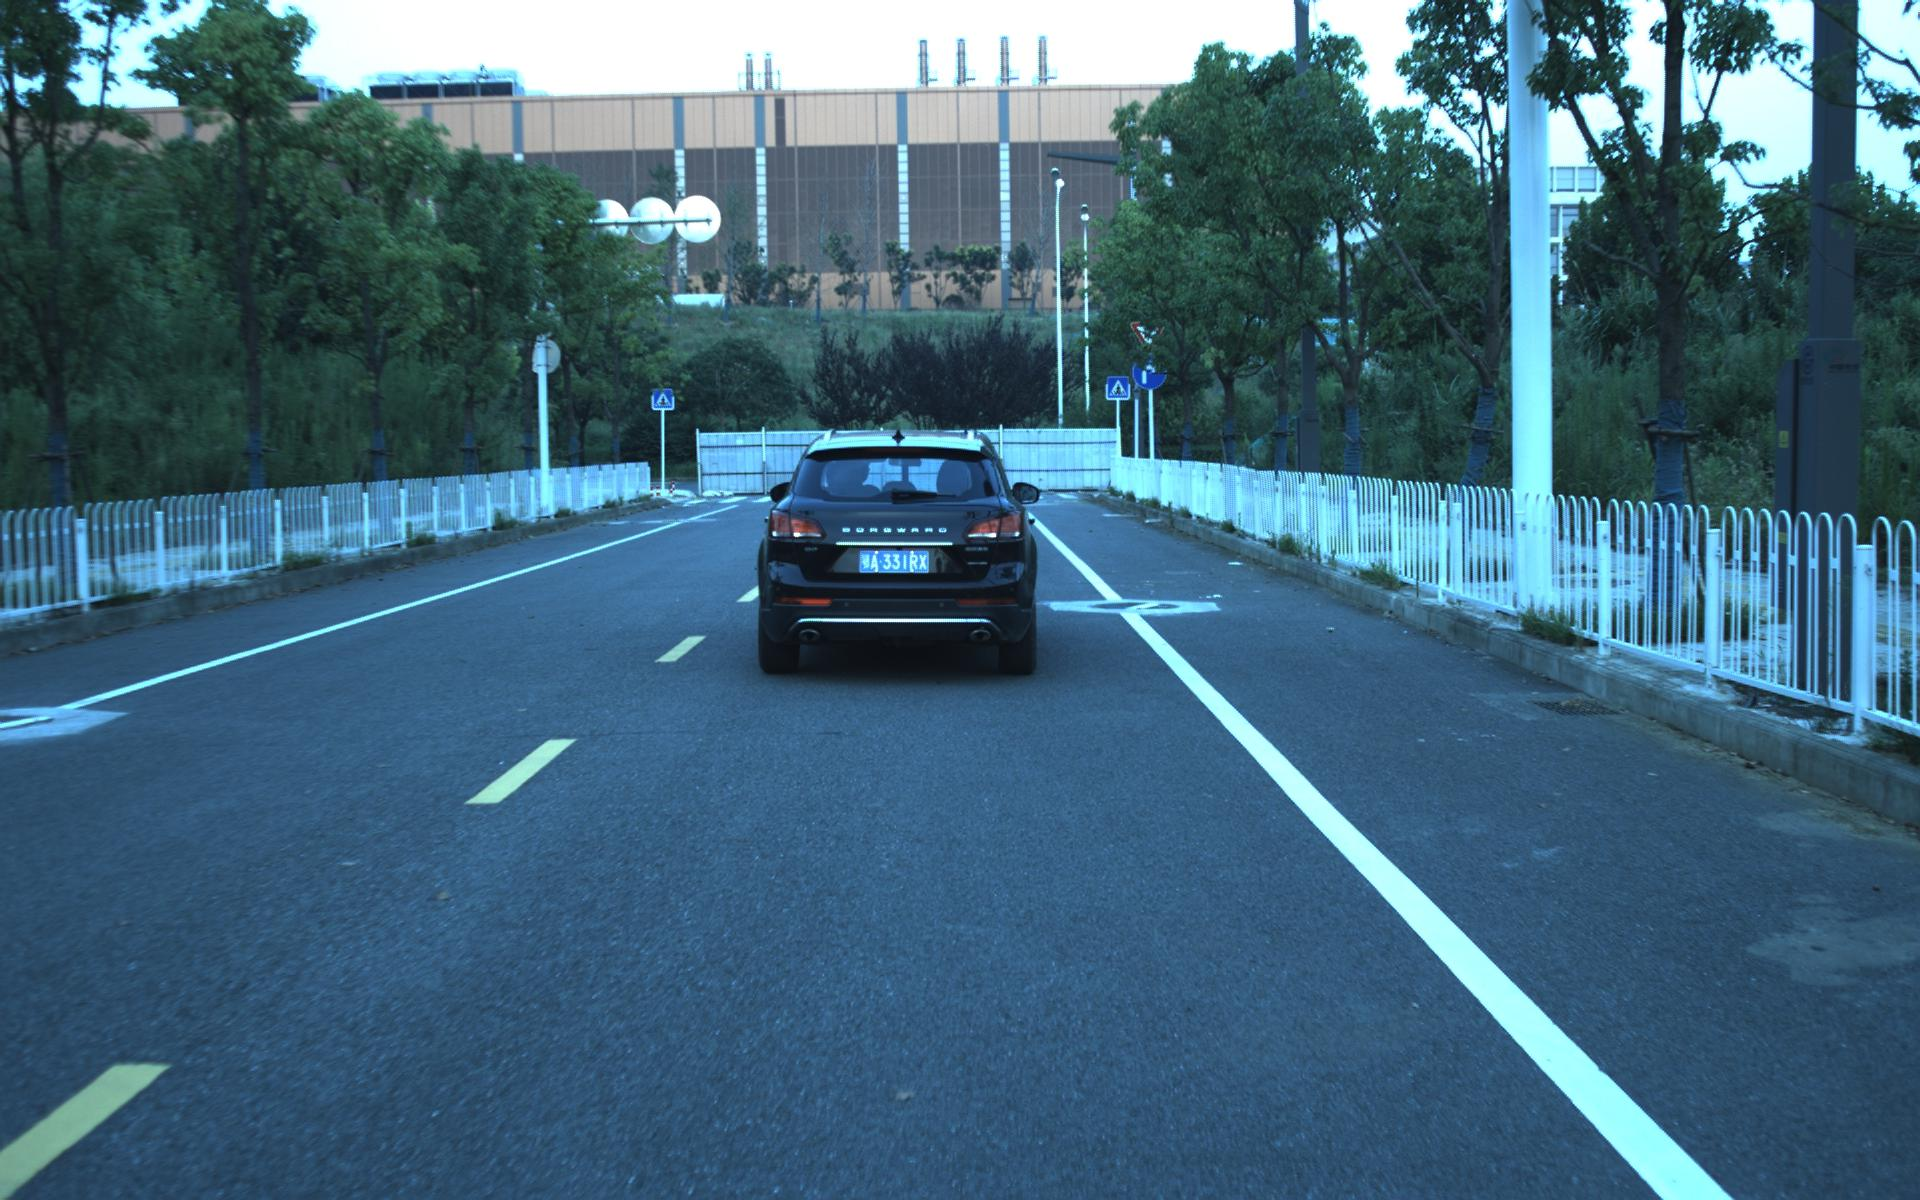Car: (753, 420, 1039, 675)
